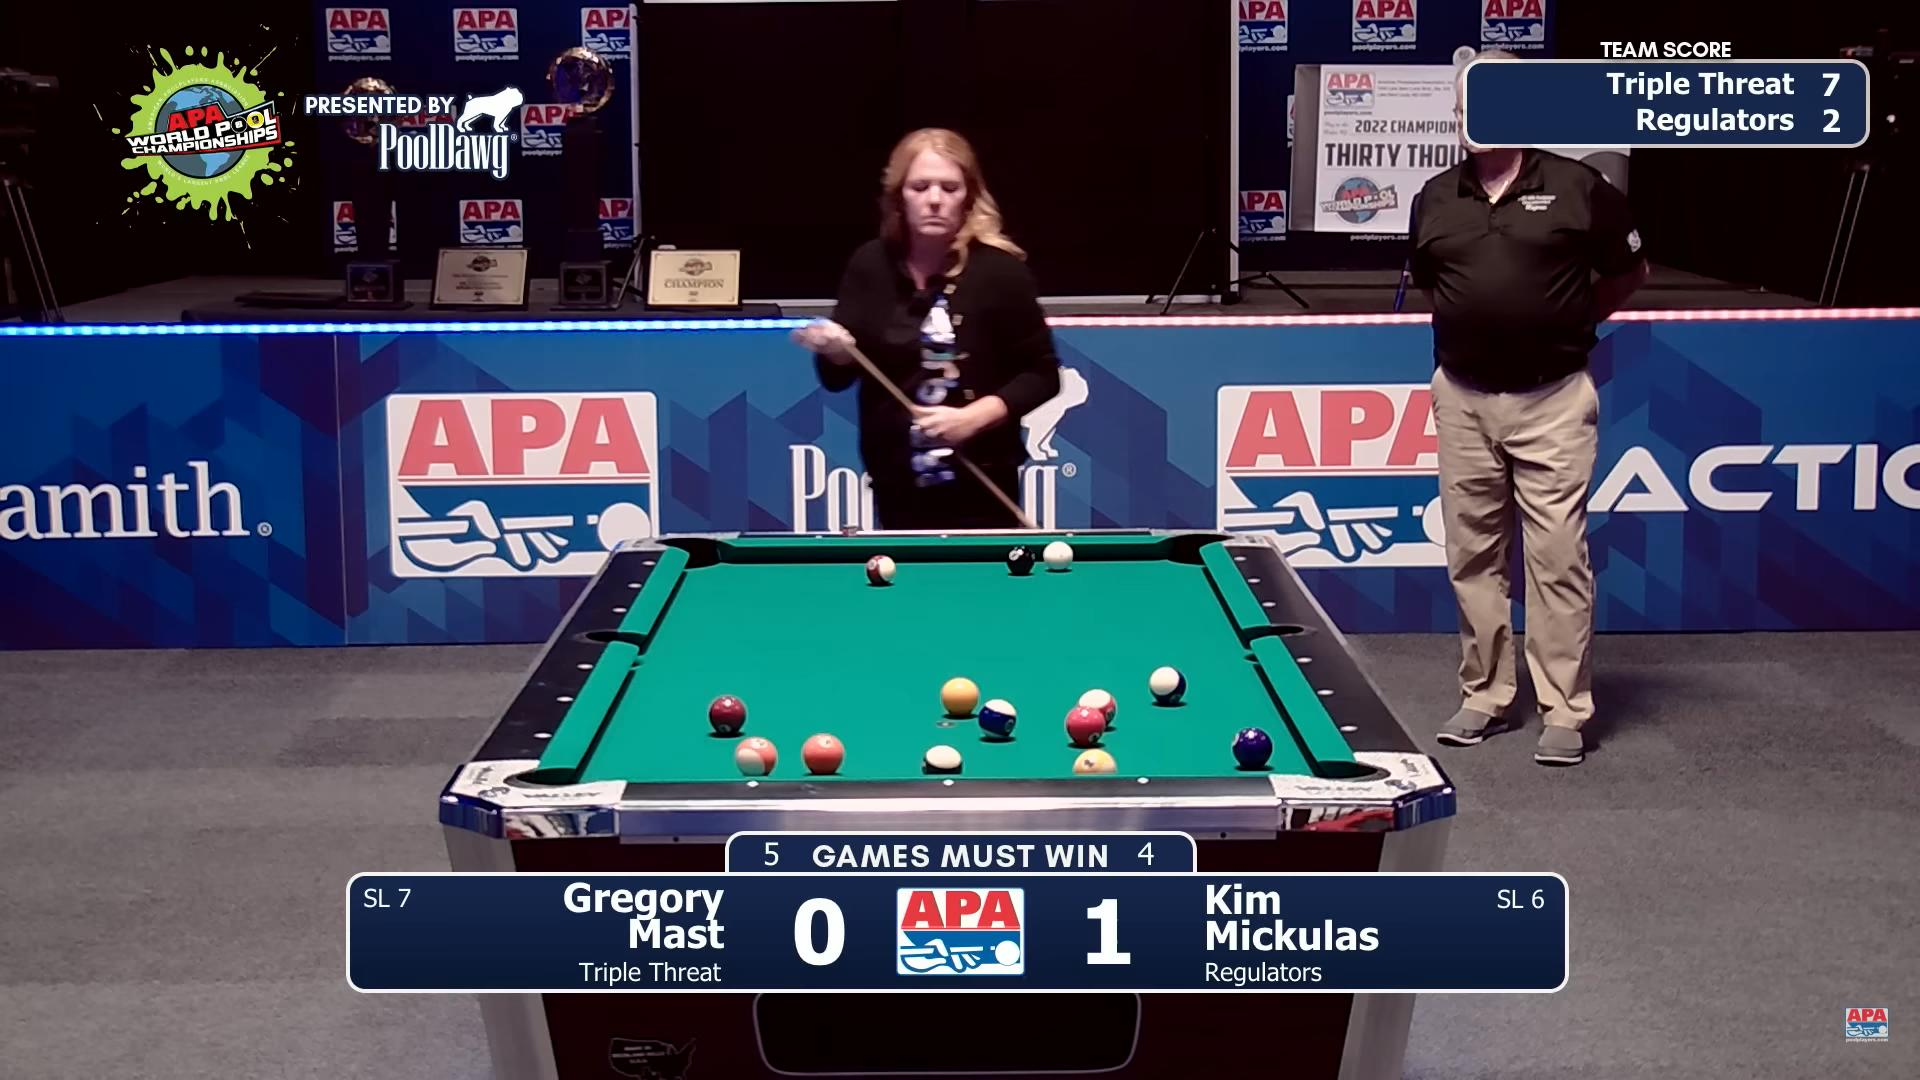Black: (1006, 546, 1035, 574)
Cue: (1043, 541, 1073, 570)
Dot: (535, 731, 550, 741), (1063, 530, 1077, 541), (1319, 687, 1333, 698), (559, 694, 572, 704), (629, 580, 642, 591), (812, 531, 825, 542), (938, 531, 951, 542), (1234, 554, 1247, 564), (1137, 775, 1150, 786), (613, 605, 628, 615), (642, 558, 657, 567), (1262, 600, 1276, 609), (745, 779, 760, 789), (579, 662, 592, 671), (1247, 576, 1261, 585), (1298, 655, 1311, 665), (1342, 724, 1356, 733), (942, 778, 955, 787)
Solid: (800, 733, 844, 774), (1065, 705, 1106, 745), (1232, 728, 1273, 766), (940, 676, 980, 715), (708, 696, 746, 736)
Striped: (735, 736, 778, 775), (978, 699, 1018, 738), (1077, 688, 1117, 725), (1149, 666, 1185, 703), (922, 745, 963, 774), (1072, 749, 1117, 775), (866, 555, 895, 584)
